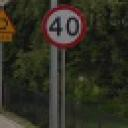speed_limit_40: (41, 4, 89, 53)
